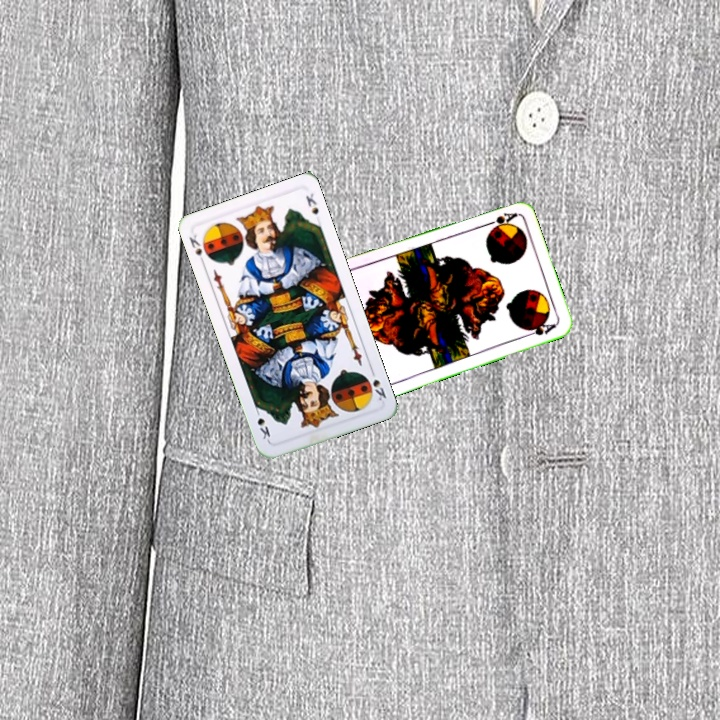SA: (479, 208, 519, 229)
SK: (366, 365, 389, 403), (185, 231, 208, 267)
